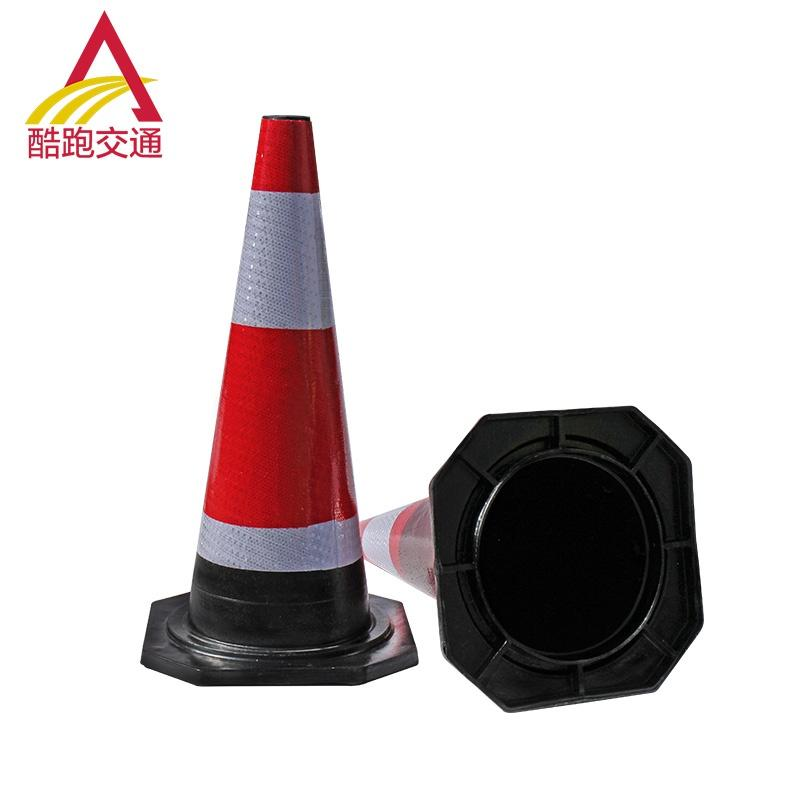cone_barrel: (161, 113, 388, 664), (356, 485, 474, 600)
